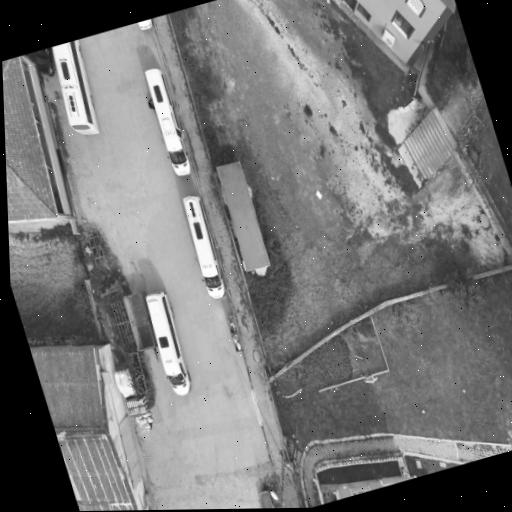bus: (143, 68, 189, 175), (51, 38, 98, 133), (181, 195, 223, 298)
car: (146, 290, 190, 394), (35, 47, 55, 75), (138, 19, 152, 29)
person: (148, 98, 155, 108)
